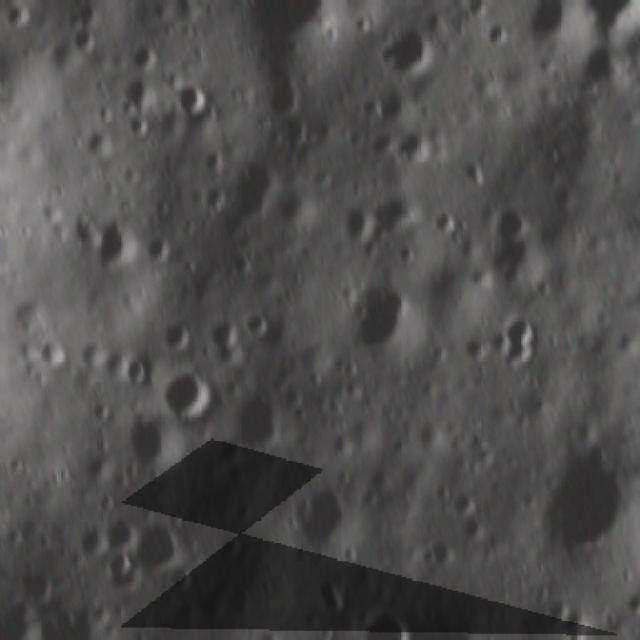crater: (552, 454, 636, 546), (351, 272, 412, 357), (293, 482, 344, 546), (233, 390, 284, 453), (228, 167, 283, 221), (378, 26, 440, 72), (517, 0, 571, 51), (86, 217, 140, 266), (160, 369, 209, 423), (130, 420, 184, 468), (136, 516, 184, 570), (350, 609, 422, 640), (576, 45, 622, 90), (487, 200, 533, 238), (507, 310, 539, 364), (204, 322, 239, 362), (339, 202, 378, 236), (18, 566, 58, 599), (262, 78, 304, 108), (70, 522, 104, 558), (397, 128, 431, 164), (82, 335, 113, 373), (144, 232, 176, 266), (103, 550, 134, 585), (65, 0, 106, 26), (319, 570, 344, 612), (176, 82, 207, 115), (0, 445, 29, 480), (483, 15, 514, 47), (81, 125, 112, 157), (120, 358, 149, 392), (274, 118, 306, 147), (121, 76, 148, 110), (430, 211, 464, 238), (103, 515, 129, 550), (39, 336, 64, 372), (212, 529, 239, 562), (118, 112, 150, 138), (240, 311, 268, 340), (228, 251, 258, 278), (198, 147, 224, 176), (458, 158, 487, 184), (165, 322, 188, 353), (414, 546, 444, 568), (459, 333, 484, 359), (544, 595, 567, 623), (621, 584, 640, 617), (90, 489, 116, 513), (1, 4, 32, 24), (448, 490, 475, 512), (456, 518, 484, 539), (85, 401, 110, 422), (200, 188, 223, 210), (69, 30, 93, 50), (488, 326, 508, 349), (316, 620, 336, 640), (431, 483, 454, 499), (229, 463, 242, 485), (638, 342, 640, 366)
